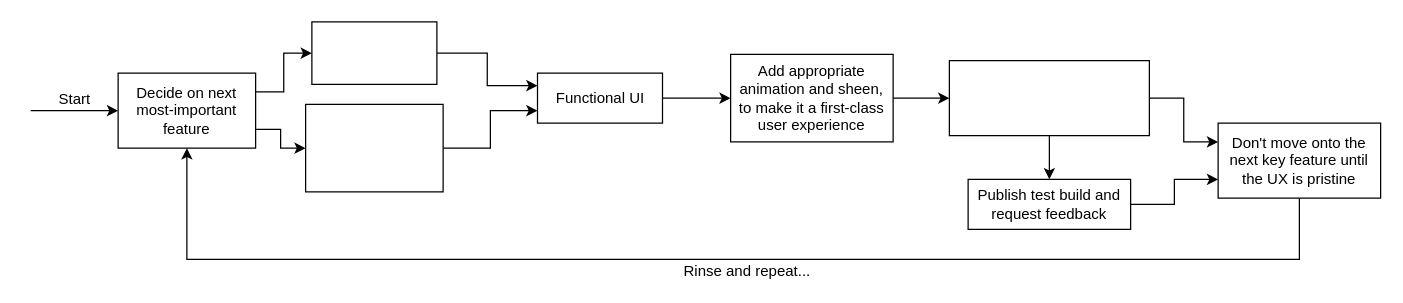
The diagram is 1403 pixels wide and 303 high, and some of its shapes have lost their labels. The centre of each missing label's shape, as x and y in pixels:
Develop a polished test build, with all unfinished features handled gracefully: the point at 1048,97
Proof-of-concept API-calling service(s): the point at 373,147
Static, tidy UI (functionless): the point at 374,52
